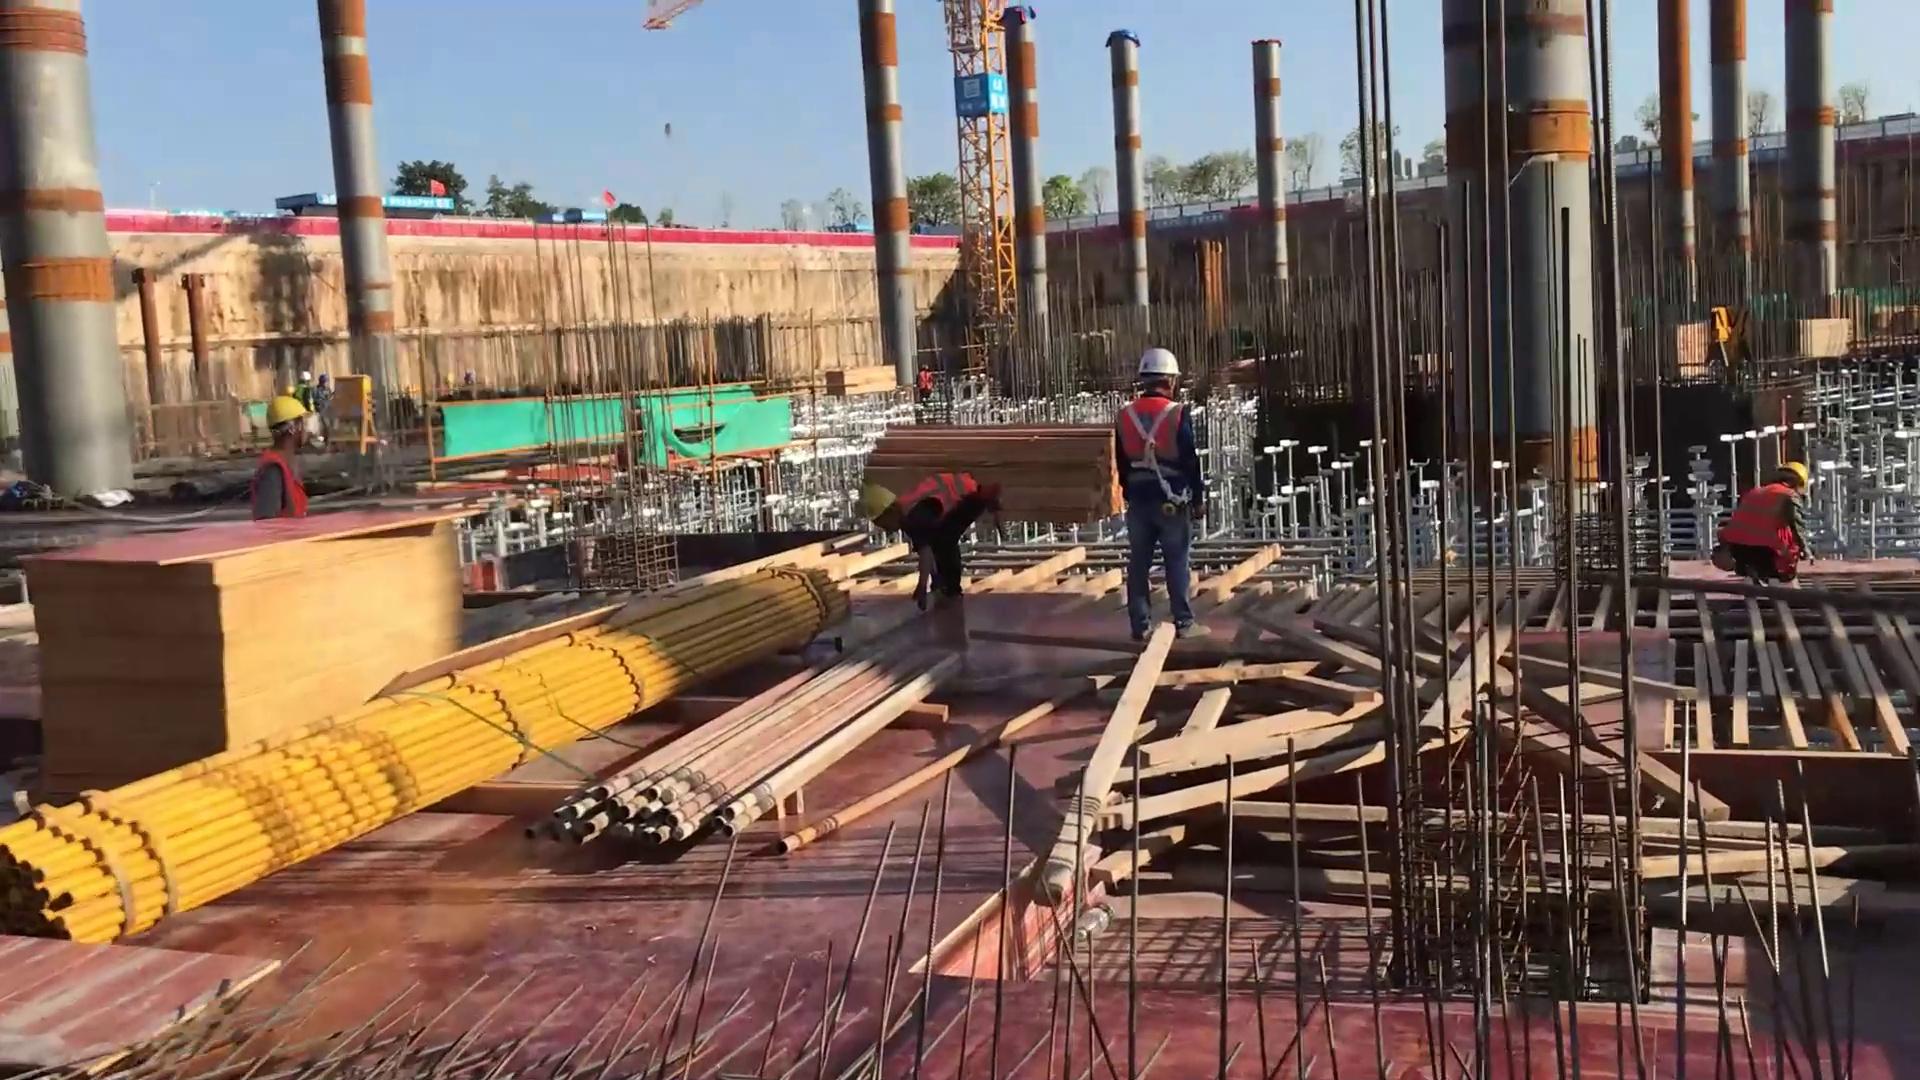helmet: (1125, 340, 1189, 381), (849, 479, 900, 527), (263, 391, 306, 430), (1778, 459, 1819, 497)
person: (1107, 340, 1233, 652), (840, 456, 996, 648), (1707, 454, 1829, 588), (243, 376, 318, 529)
vest: (1713, 480, 1810, 588), (1114, 393, 1189, 509), (244, 445, 314, 533), (896, 466, 985, 522)
